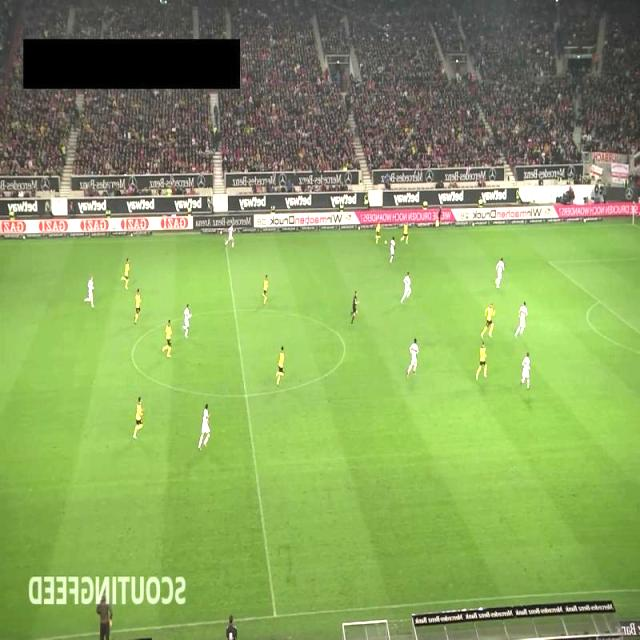bigarea_top_inner: (544, 256, 555, 266)
corner: (628, 220, 639, 230)
halfcircle_bottom: (238, 389, 252, 402)
halfcircle_top: (227, 304, 242, 317)
midline_bottom_intersection: (268, 608, 282, 624)
midline_top_intersection: (220, 233, 231, 244)
top_arc_area_intersection: (594, 296, 604, 307)
